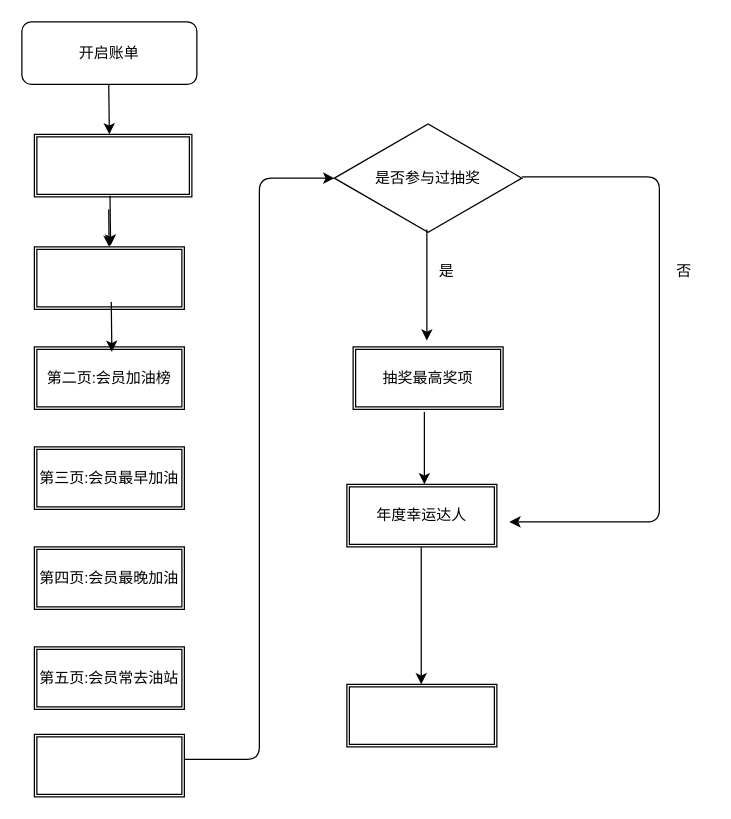
Some shapes in this 731 by 819 pixel diagram are drawn without their labels. The centre of each missing label's shape, as x and y in pixels:
"寒暄" belongs at point (112, 165).
"第一页:会员总览" belongs at point (108, 277).
"第六页:会员省钱统计" belongs at point (108, 765).
"结束页" belongs at point (421, 715).
